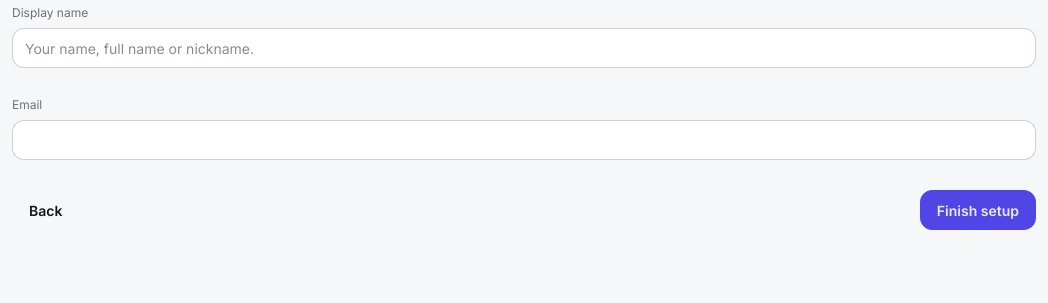
Test: AC2: an empty field blocks the submit › reports all three at once rather than the first
Click the button "Finish setup" at [978, 210], box [920,190,1036,230]
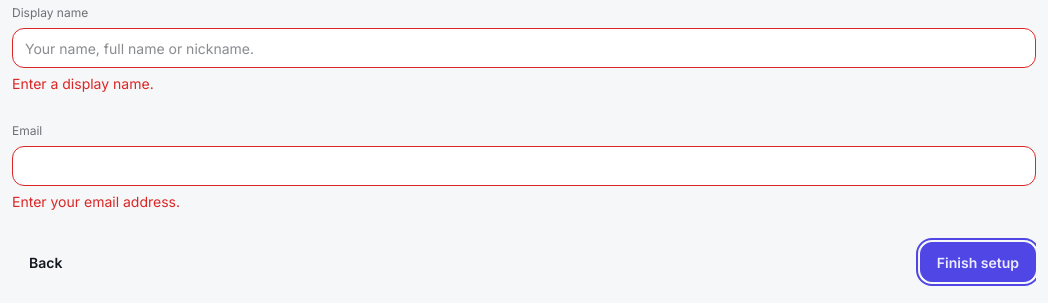
Result: the text "Enter a display name." is shown at [12,75,154,92]
Result: the text "Enter your email address." is shown at [12,193,180,210]
